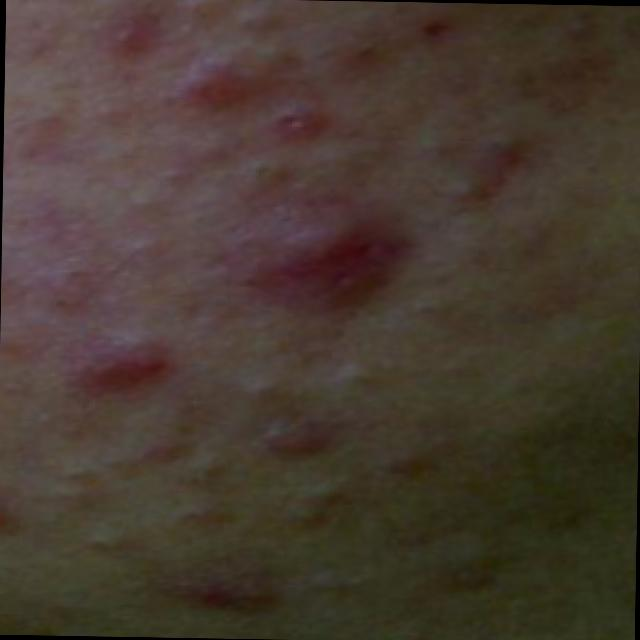nodule: (270, 213, 364, 283), (83, 327, 166, 384)
